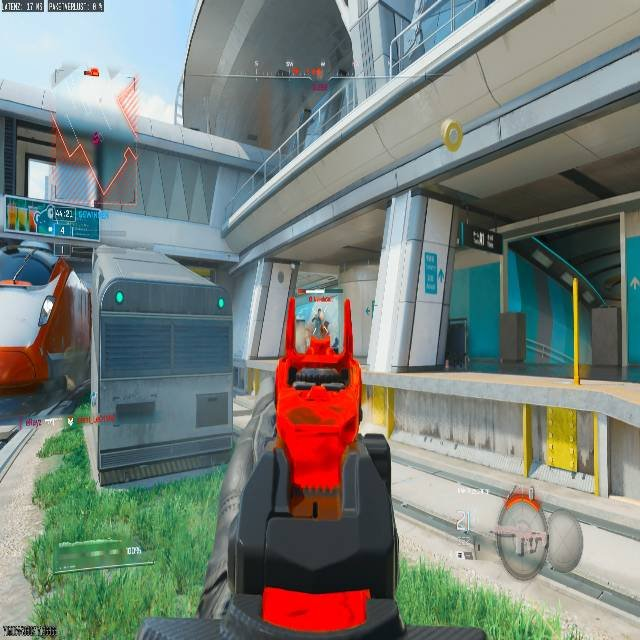player: (302, 306, 333, 352), (309, 309, 329, 340)
